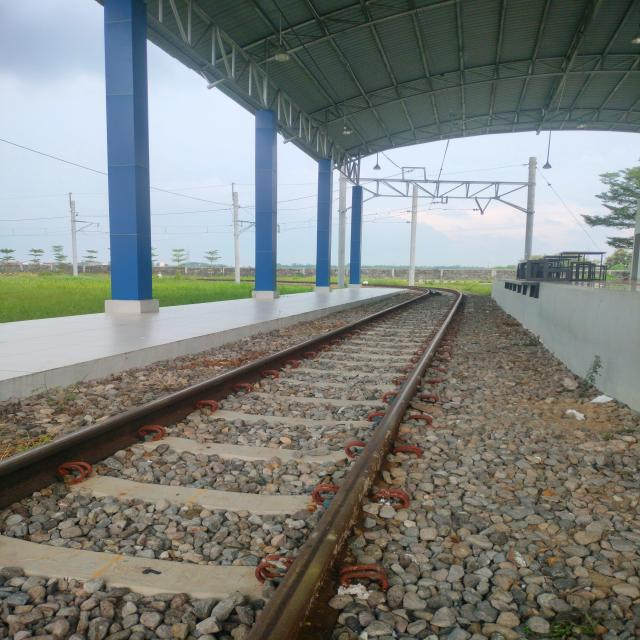rail-detection: (0, 288, 438, 508), (248, 291, 465, 640)
